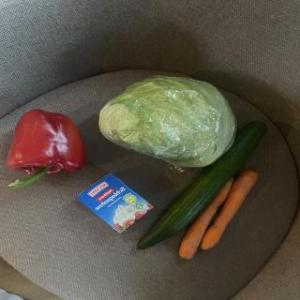bell_pepper: (3, 107, 85, 191)
cabbage: (94, 73, 250, 167)
carrot: (196, 173, 266, 267), (174, 176, 236, 258)
cucumber: (132, 115, 274, 257)
